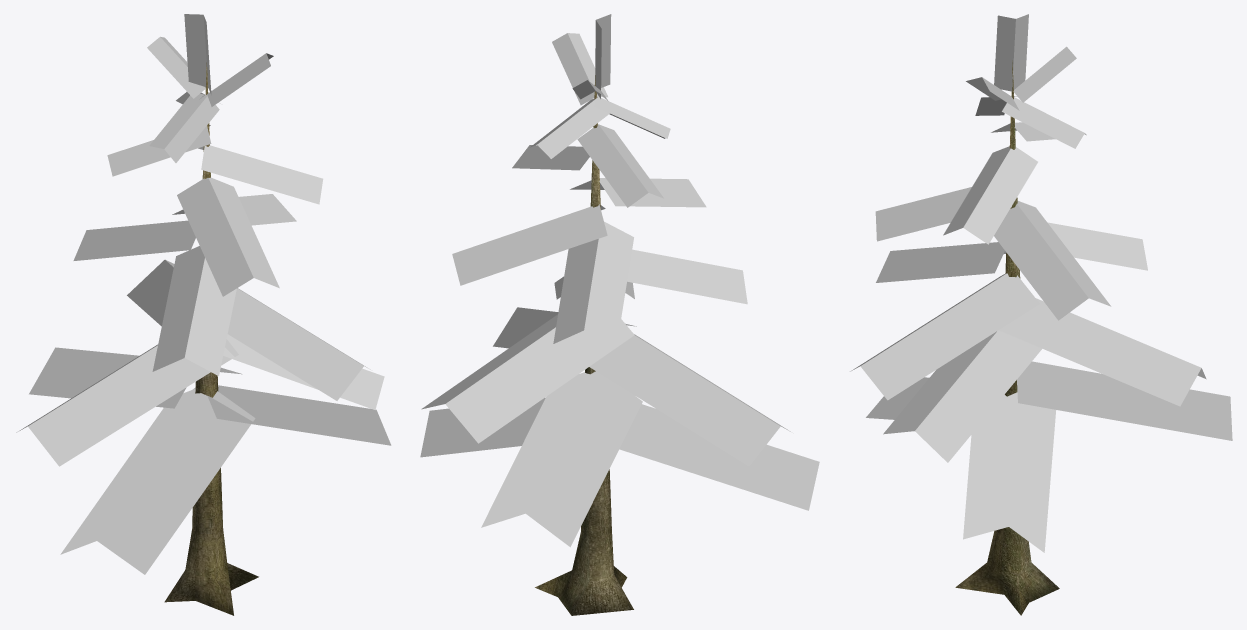
The model's file is Tree_8.fbx.
3 renders of one model, left to right at view 1: azimuth 30°, elevation 25°; view 2: azimuth 150°, elevation 25°; view 3: azimuth 270°, elevation 25°, orthographic.
Parts seen in each view (by area): view 1: Tree_8; view 2: Tree_8; view 3: Tree_8.
Part boxes in pixels (x1,y1,x2,y2): Tree_8: (16,14,391,615); Tree_8: (420,14,819,615); Tree_8: (850,14,1232,615).
Size of the model in its own units: 491 by 778 by 476.
